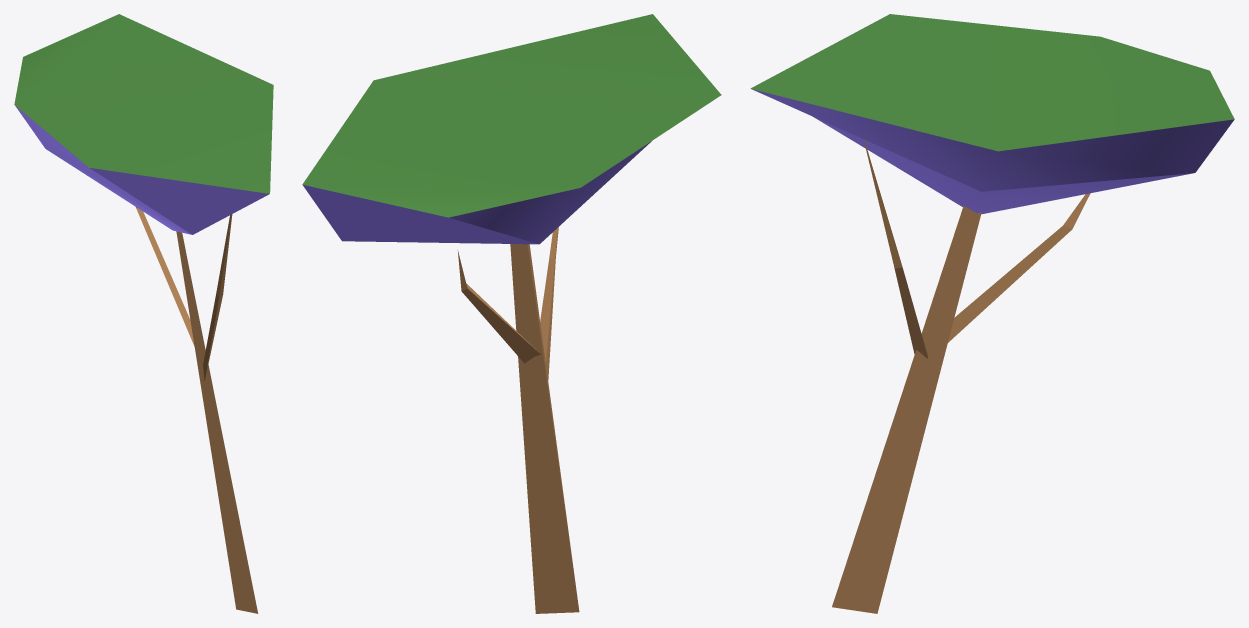
File: tree_B_canopy_B_E_solo_LOD4.fbx
3 renders of one model, left to right at view 1: azimuth 30°, elevation 25°; view 2: azimuth 150°, elevation 25°; view 3: azimuth 270°, elevation 25°, orthographic. The views are drawn at different scales.
Visible parts, largest first — view 1: tree_B_canopy_B_E, tree_B_canopy_B_trunk_A, tree_B_canopy_B_trunk_C, tree_B_canopy_B_trunk_I; view 2: tree_B_canopy_B_E, tree_B_canopy_B_trunk_A, tree_B_canopy_B_trunk_I, tree_B_canopy_B_trunk_C; view 3: tree_B_canopy_B_E, tree_B_canopy_B_trunk_A, tree_B_canopy_B_trunk_I, tree_B_canopy_B_trunk_C.
Boxes of the visible parts, bbox=[...] form: tree_B_canopy_B_E: bbox=[14, 14, 273, 234]; tree_B_canopy_B_trunk_A: bbox=[176, 231, 258, 613]; tree_B_canopy_B_trunk_C: bbox=[203, 214, 232, 380]; tree_B_canopy_B_trunk_I: bbox=[136, 207, 194, 346]; tree_B_canopy_B_E: bbox=[302, 14, 721, 244]; tree_B_canopy_B_trunk_A: bbox=[510, 244, 579, 613]; tree_B_canopy_B_trunk_I: bbox=[457, 250, 540, 363]; tree_B_canopy_B_trunk_C: bbox=[540, 227, 558, 386]; tree_B_canopy_B_E: bbox=[750, 14, 1234, 214]; tree_B_canopy_B_trunk_A: bbox=[832, 206, 981, 613]; tree_B_canopy_B_trunk_I: bbox=[948, 193, 1090, 342]; tree_B_canopy_B_trunk_C: bbox=[863, 139, 927, 358].
Size of the model in its own units: 203 by 384 by 327.
